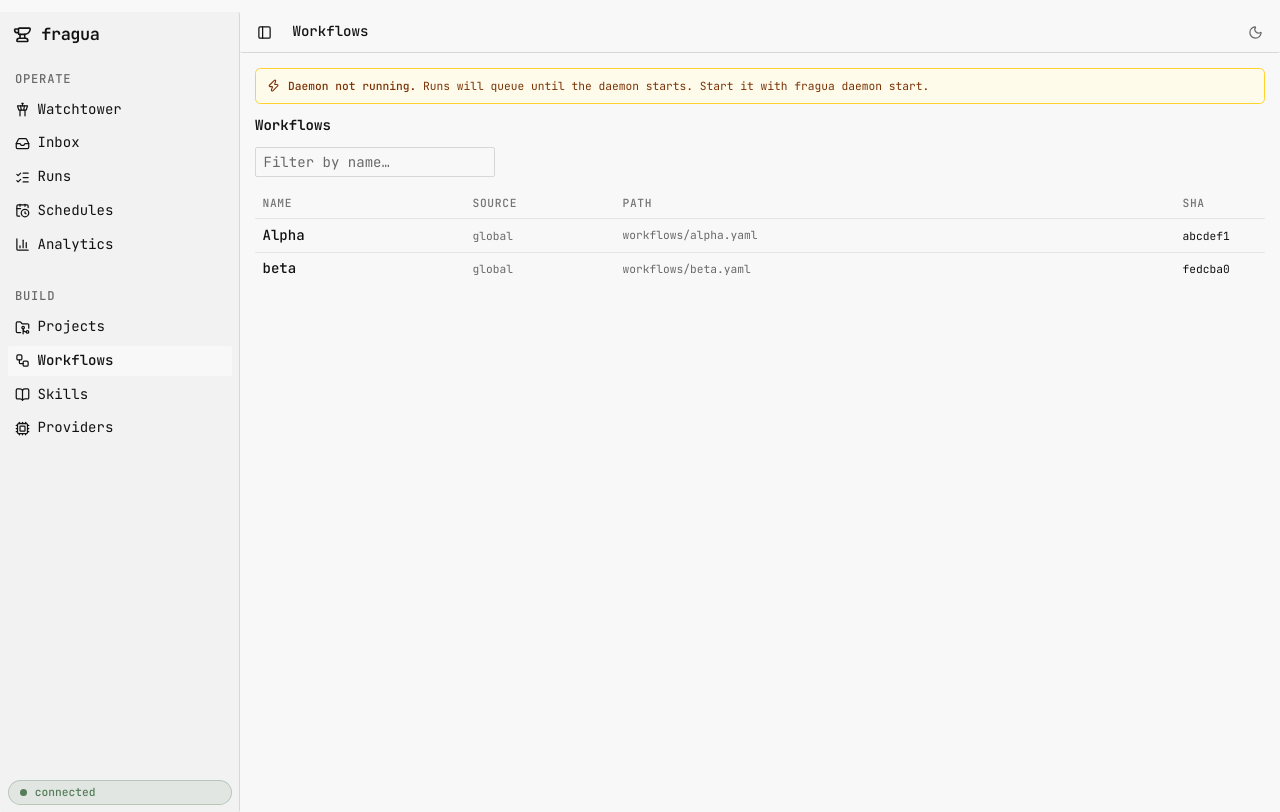
Workflows route › filters rows by name as the operator types, and restores them on clear
The width and height of the screenshot is (1280, 812).
Step 1. Type "alp" into the search field named "Filter workflows" → (375, 162), box [255,147,495,177]
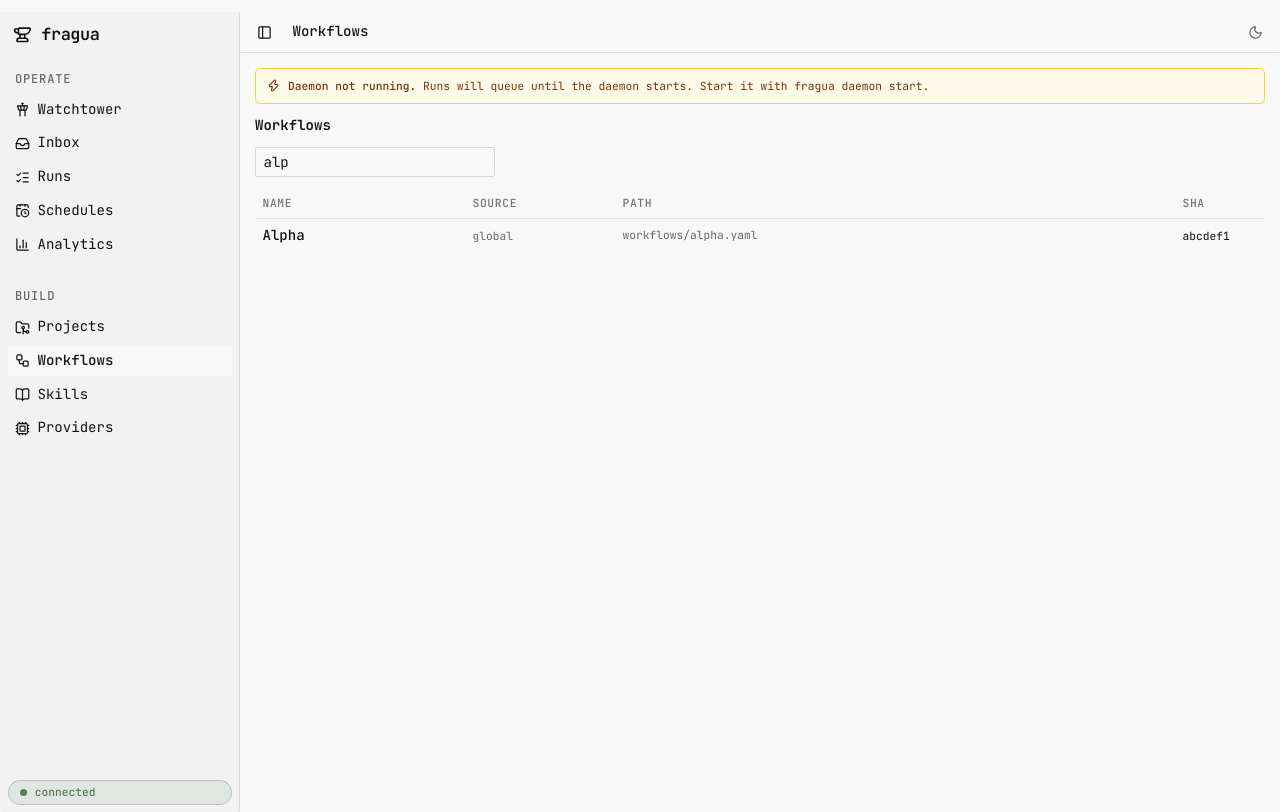
Expected: the row with test id "workflow-row-alpha" is shown, [255,219,1265,252]
Expected: the row with test id "workflow-row-beta" is gone
Step 2. Clear the search field named "Filter workflows" → (375, 162), box [255,147,495,177]
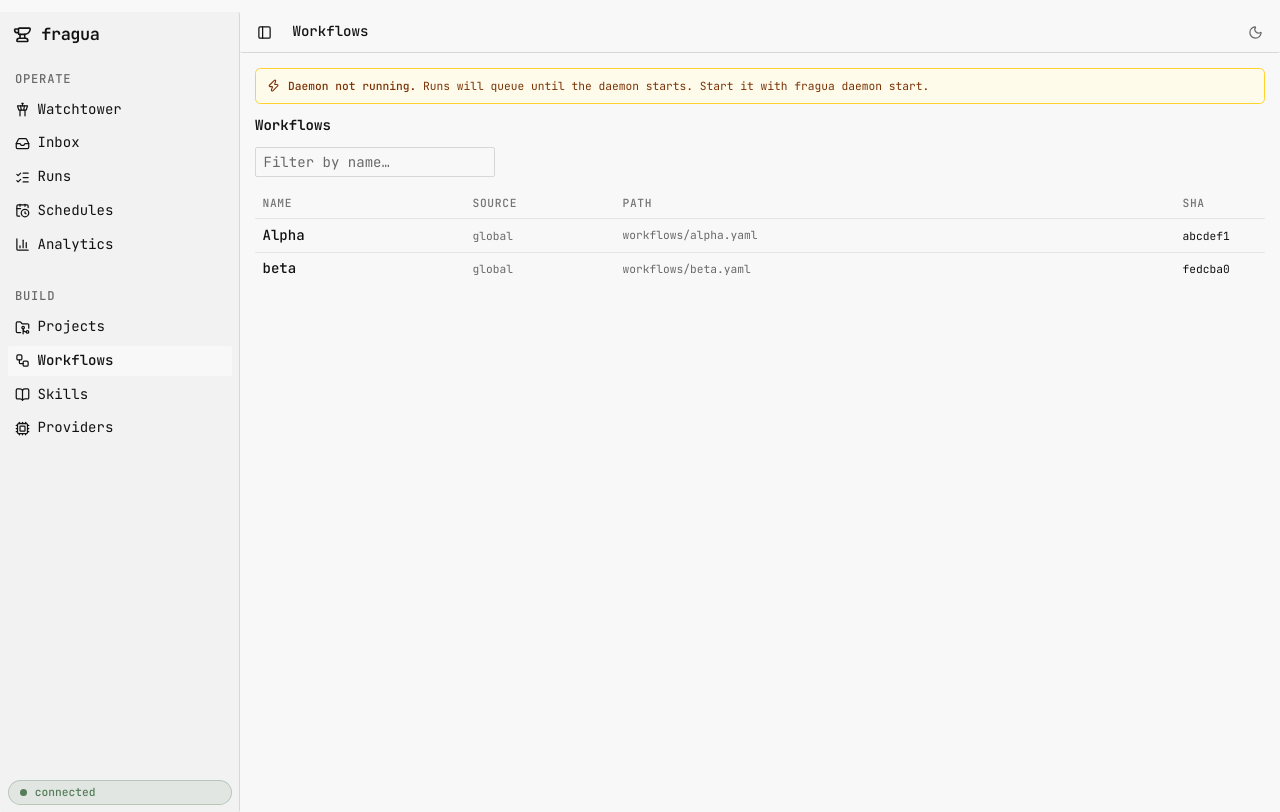
Expected: the row with test id "workflow-row-alpha" is shown, [255,219,1265,252]
Expected: the row with test id "workflow-row-beta" is shown, [255,252,1265,286]
